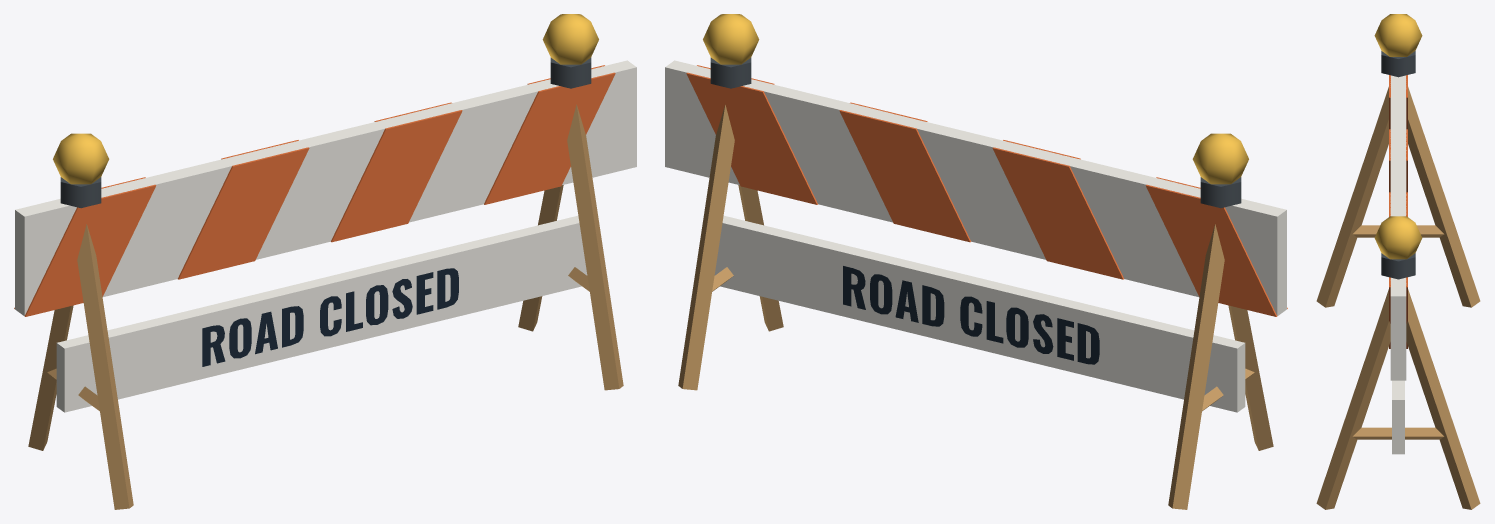
File: Town_Barricade.fbx
3 views of the same model, side by side, from view 1: azimuth 30°, elevation 25°; view 2: azimuth 150°, elevation 25°; view 3: azimuth 270°, elevation 25° (orthographic). The views are drawn at different scales.
Visible parts, largest first — view 1: Decor, DecorNeonHazard; view 2: Decor, DecorNeonHazard; view 3: Decor, DecorNeonHazard.
Part boxes in pixels (left/top/right/bottom): Decor: left=14, top=57, right=636, bottom=509; DecorNeonHazard: left=53, top=14, right=598, bottom=184; Decor: left=665, top=57, right=1287, bottom=509; DecorNeonHazard: left=703, top=14, right=1248, bottom=184; Decor: left=1316, top=51, right=1480, bottom=509; DecorNeonHazard: left=1374, top=14, right=1422, bottom=259.
Size of the model in its own units: 9 by 4.85 by 2.47.
